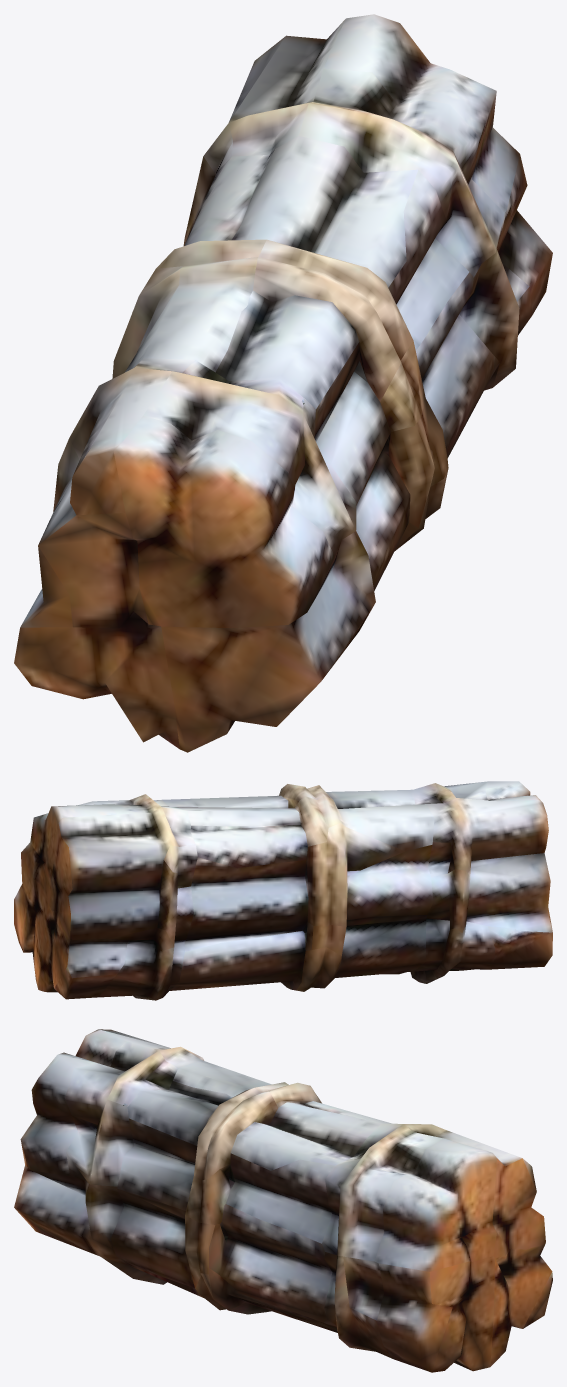
File: dio_logs.glb
3 views of the same model, one above another, from view 1: azimuth 30°, elevation 25°; view 2: azimuth 150°, elevation 25°; view 3: azimuth 270°, elevation 25° (orthographic). The views are drawn at different scales.
Visible parts, largest first — view 1: tripo_part_5; view 2: tripo_part_5; view 3: tripo_part_5.
Boxes of the visible parts, <box> form: tripo_part_5: <box>14,14,552,752</box>; tripo_part_5: <box>14,781,552,1000</box>; tripo_part_5: <box>14,1029,552,1372</box>.
Size of the model in its own units: 0.2145 by 0.1096 by 0.2124.
1 material, 1 textured.
